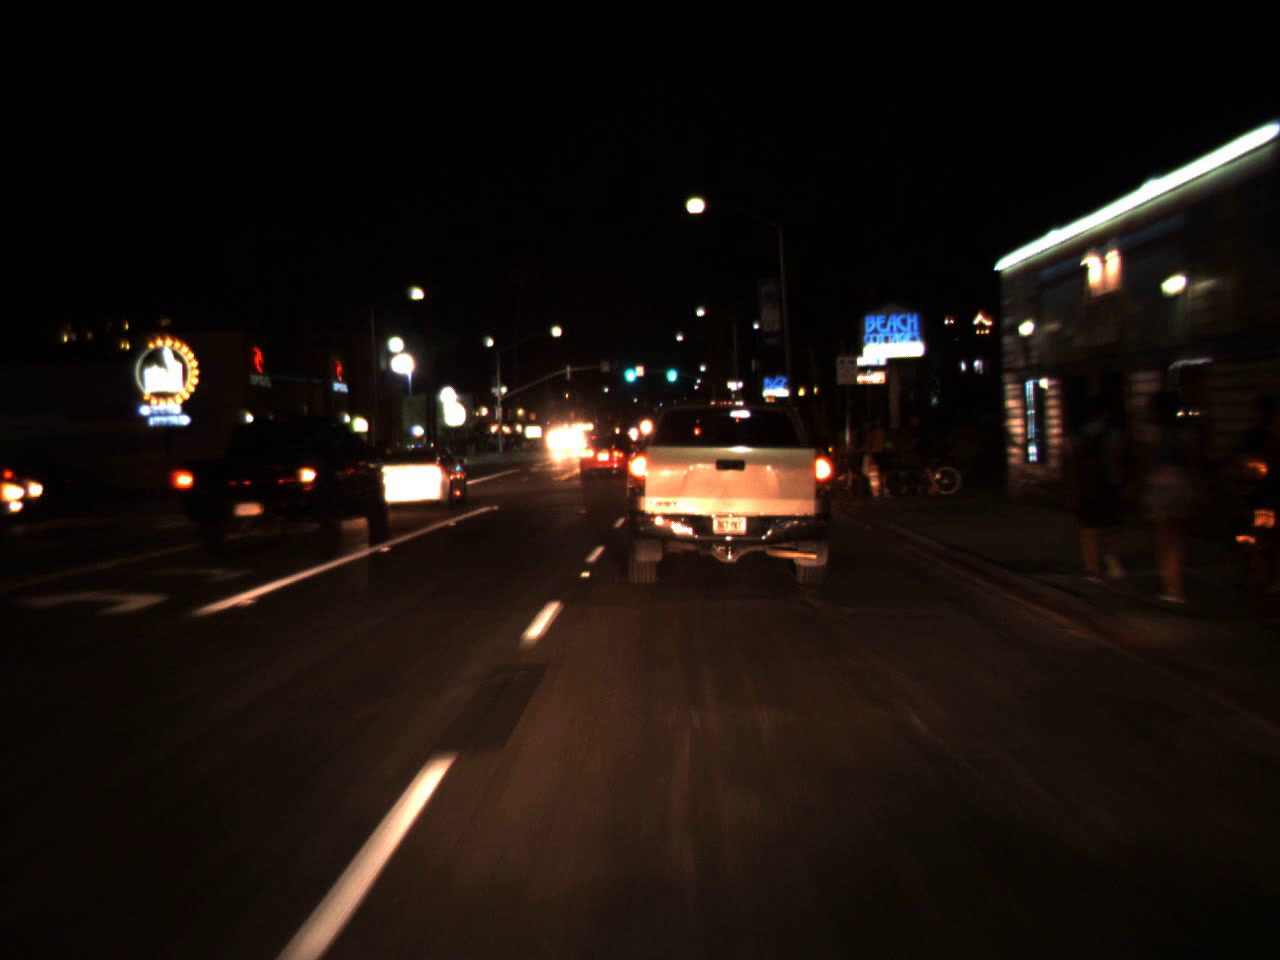go: (619, 353, 638, 386), (663, 353, 679, 386)
